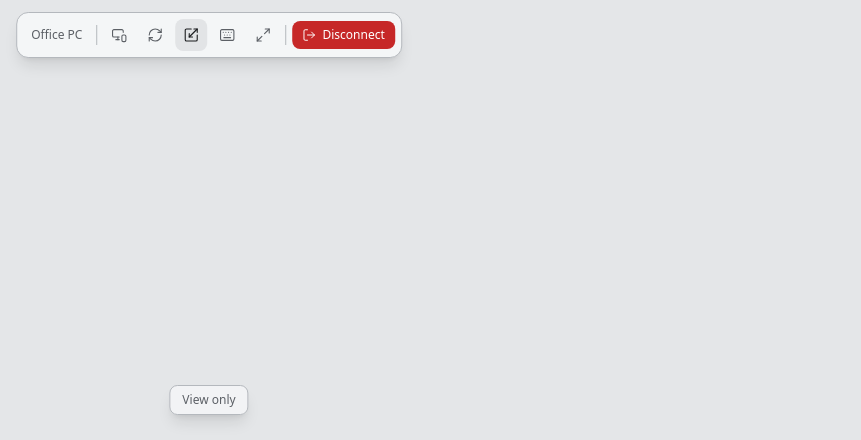
it: SessionScreen display picker › offers a picker once the host reports more than one display
Click the button named "displays" at (119, 35), box [103,19,135,51]
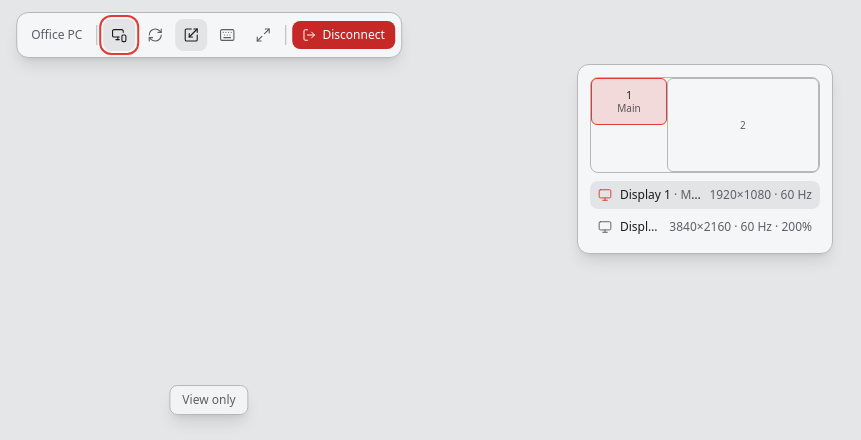
Check: the element named "remote displays" is shown, box [590,77,820,173]
